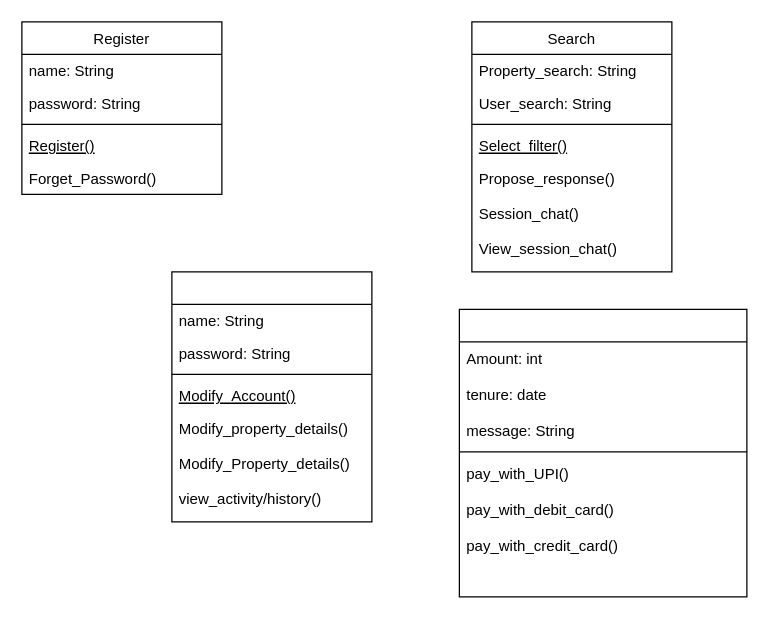
Some shapes in this 769 by 623 pixel diagram are drawn without their labels. Each missing label, with the box of its shape:
Login: (171, 271, 372, 522)
Payment: (458, 308, 747, 597)
